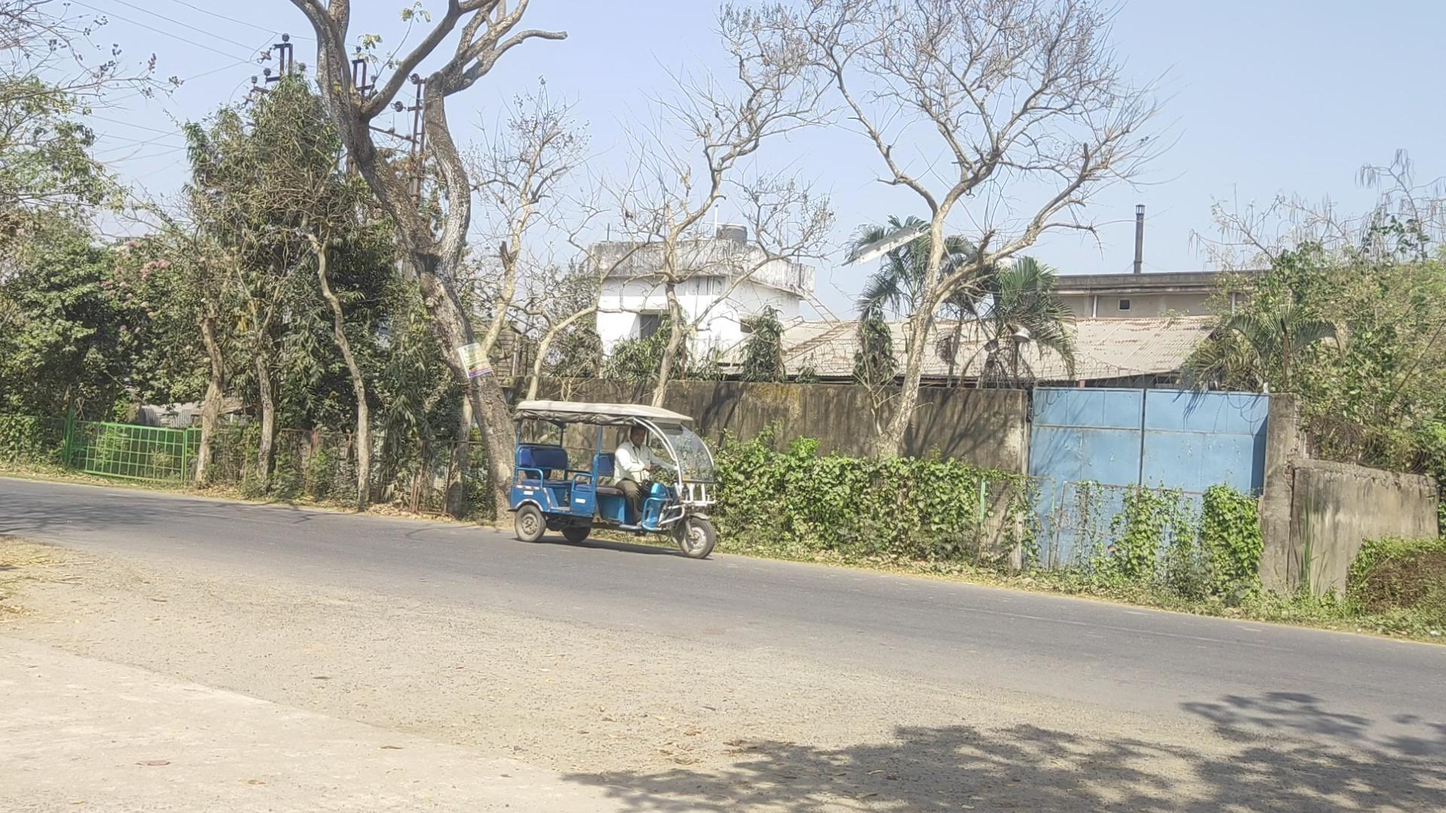Auto: (508, 400, 718, 559)
